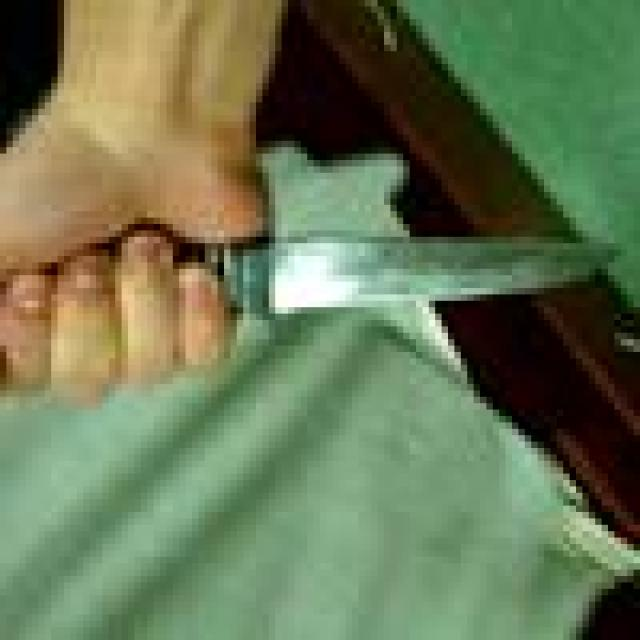knife: (252, 243, 631, 309)
